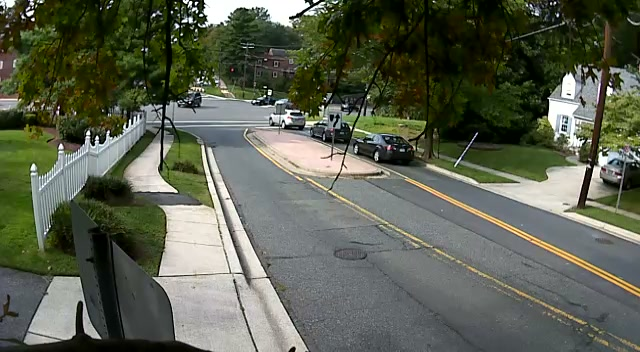car: (350, 133, 414, 164), (600, 153, 640, 190), (310, 119, 351, 143), (281, 110, 306, 130), (178, 93, 202, 108)
truck: (268, 109, 306, 128)
